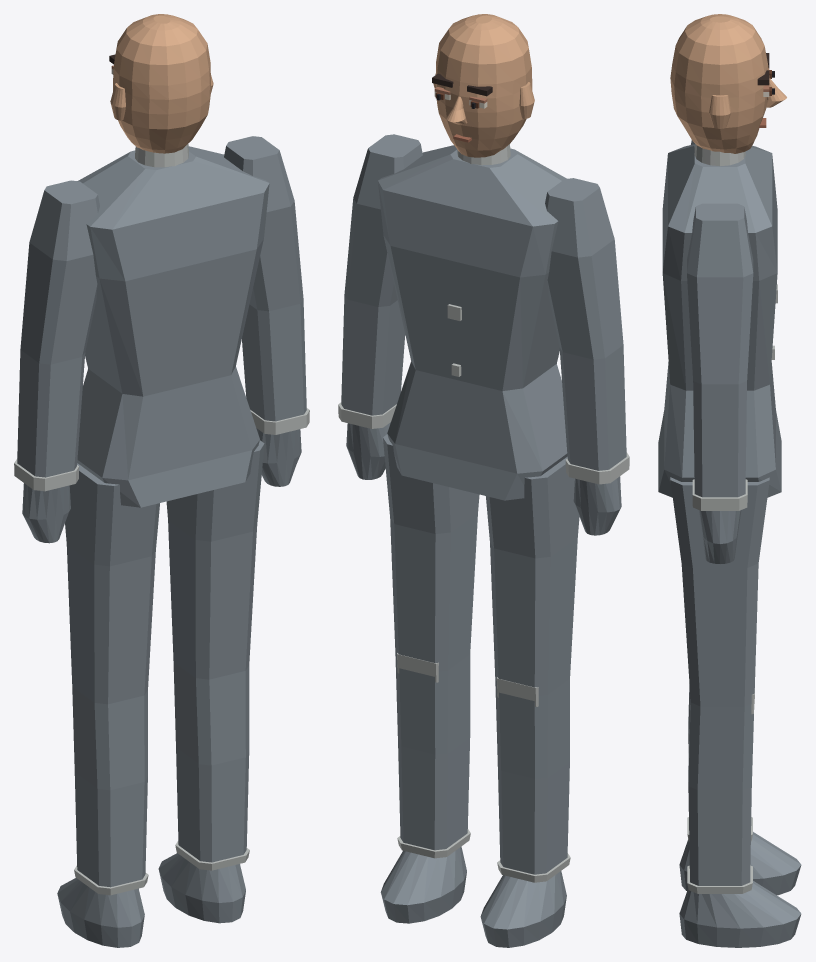
3 renders of one model, left to right at view 1: azimuth 30°, elevation 25°; view 2: azimuth 150°, elevation 25°; view 3: azimuth 270°, elevation 25°, orthographic.
Visible parts, largest first — view 1: 精细体素成年人体母版A（直线肩胯） · thin局部派生, 精细成年头部母版; view 2: 精细体素成年人体母版A（直线肩胯） · thin局部派生, 精细成年头部母版; view 3: 精细体素成年人体母版A（直线肩胯） · thin局部派生, 精细成年头部母版.
Boxes of the visible parts, <box> form: 精细体素成年人体母版A（直线肩胯） · thin局部派生: <box>14,136,309,947</box>; 精细成年头部母版: <box>109,14,213,153</box>; 精细体素成年人体母版A（直线肩胯） · thin局部派生: <box>338,134,629,947</box>; 精细成年头部母版: <box>432,14,534,157</box>; 精细体素成年人体母版A（直线肩胯） · thin局部派生: <box>658,140,801,947</box>; 精细成年头部母版: <box>670,14,786,153</box>.
Size of the model in its own units: 0.5458 by 1.7 by 0.2474.
Materials: 9 (9 with a texture image).
